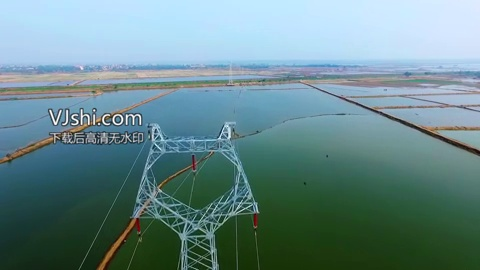tower_head: (130, 123, 257, 240)
